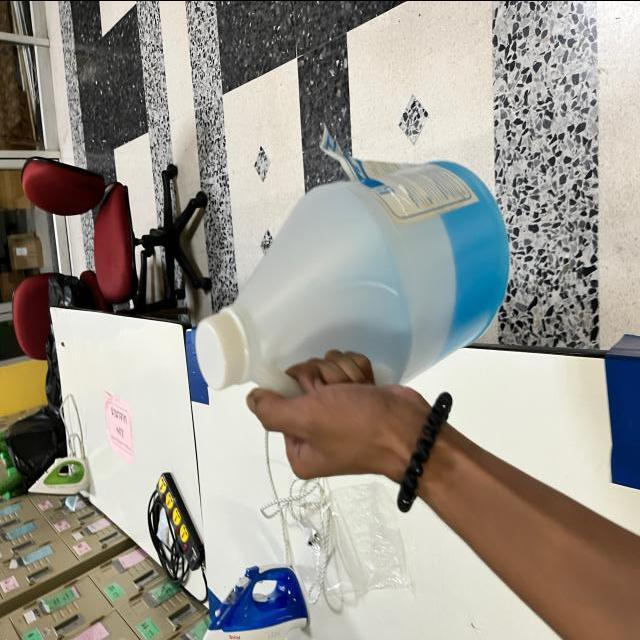HDPE Plastic: (180, 178, 520, 400)
